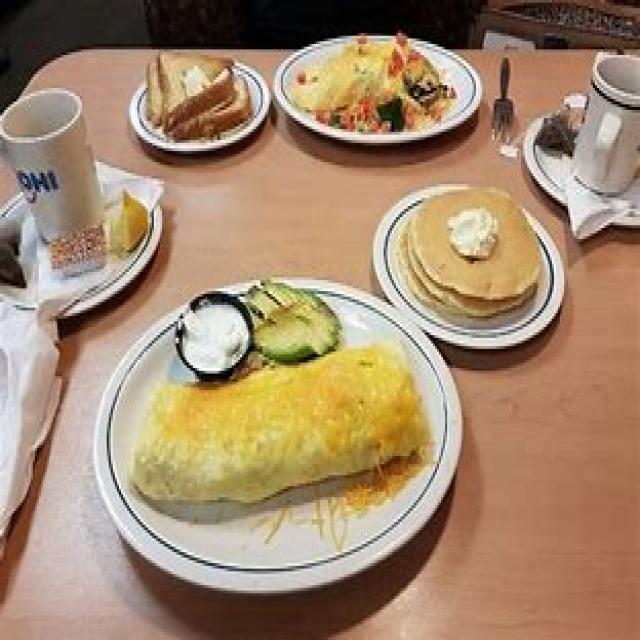French Toast: (144, 39, 258, 140)
Omelette: (129, 332, 425, 514), (294, 33, 460, 132)
Pancakes: (402, 178, 548, 322)
